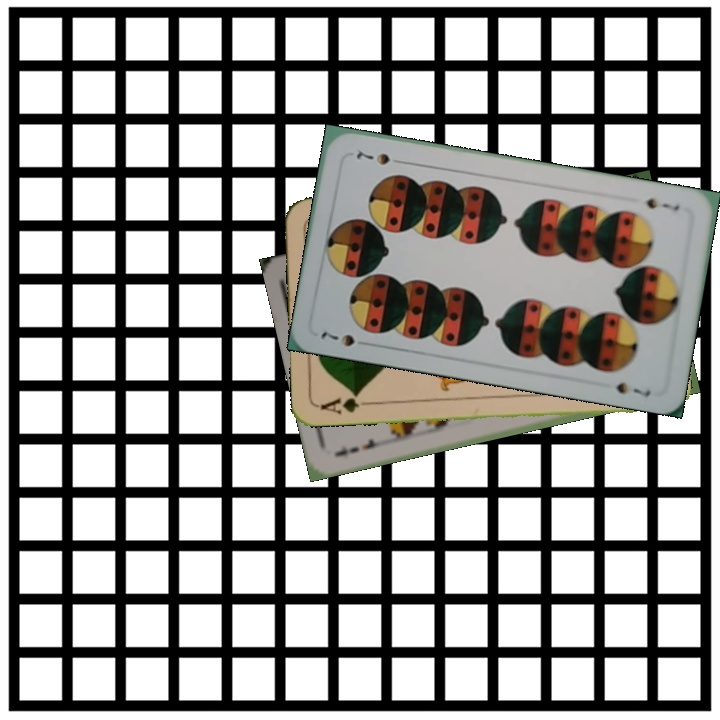E7: (330, 435, 388, 459)
GA: (316, 389, 375, 417)
S7: (316, 327, 373, 349), (642, 194, 682, 214)
